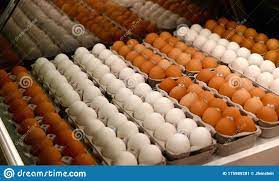eggs: (118, 88, 201, 159), (75, 100, 147, 164), (83, 95, 146, 165), (77, 42, 142, 94), (176, 19, 238, 66), (51, 50, 101, 104), (233, 42, 279, 89)
